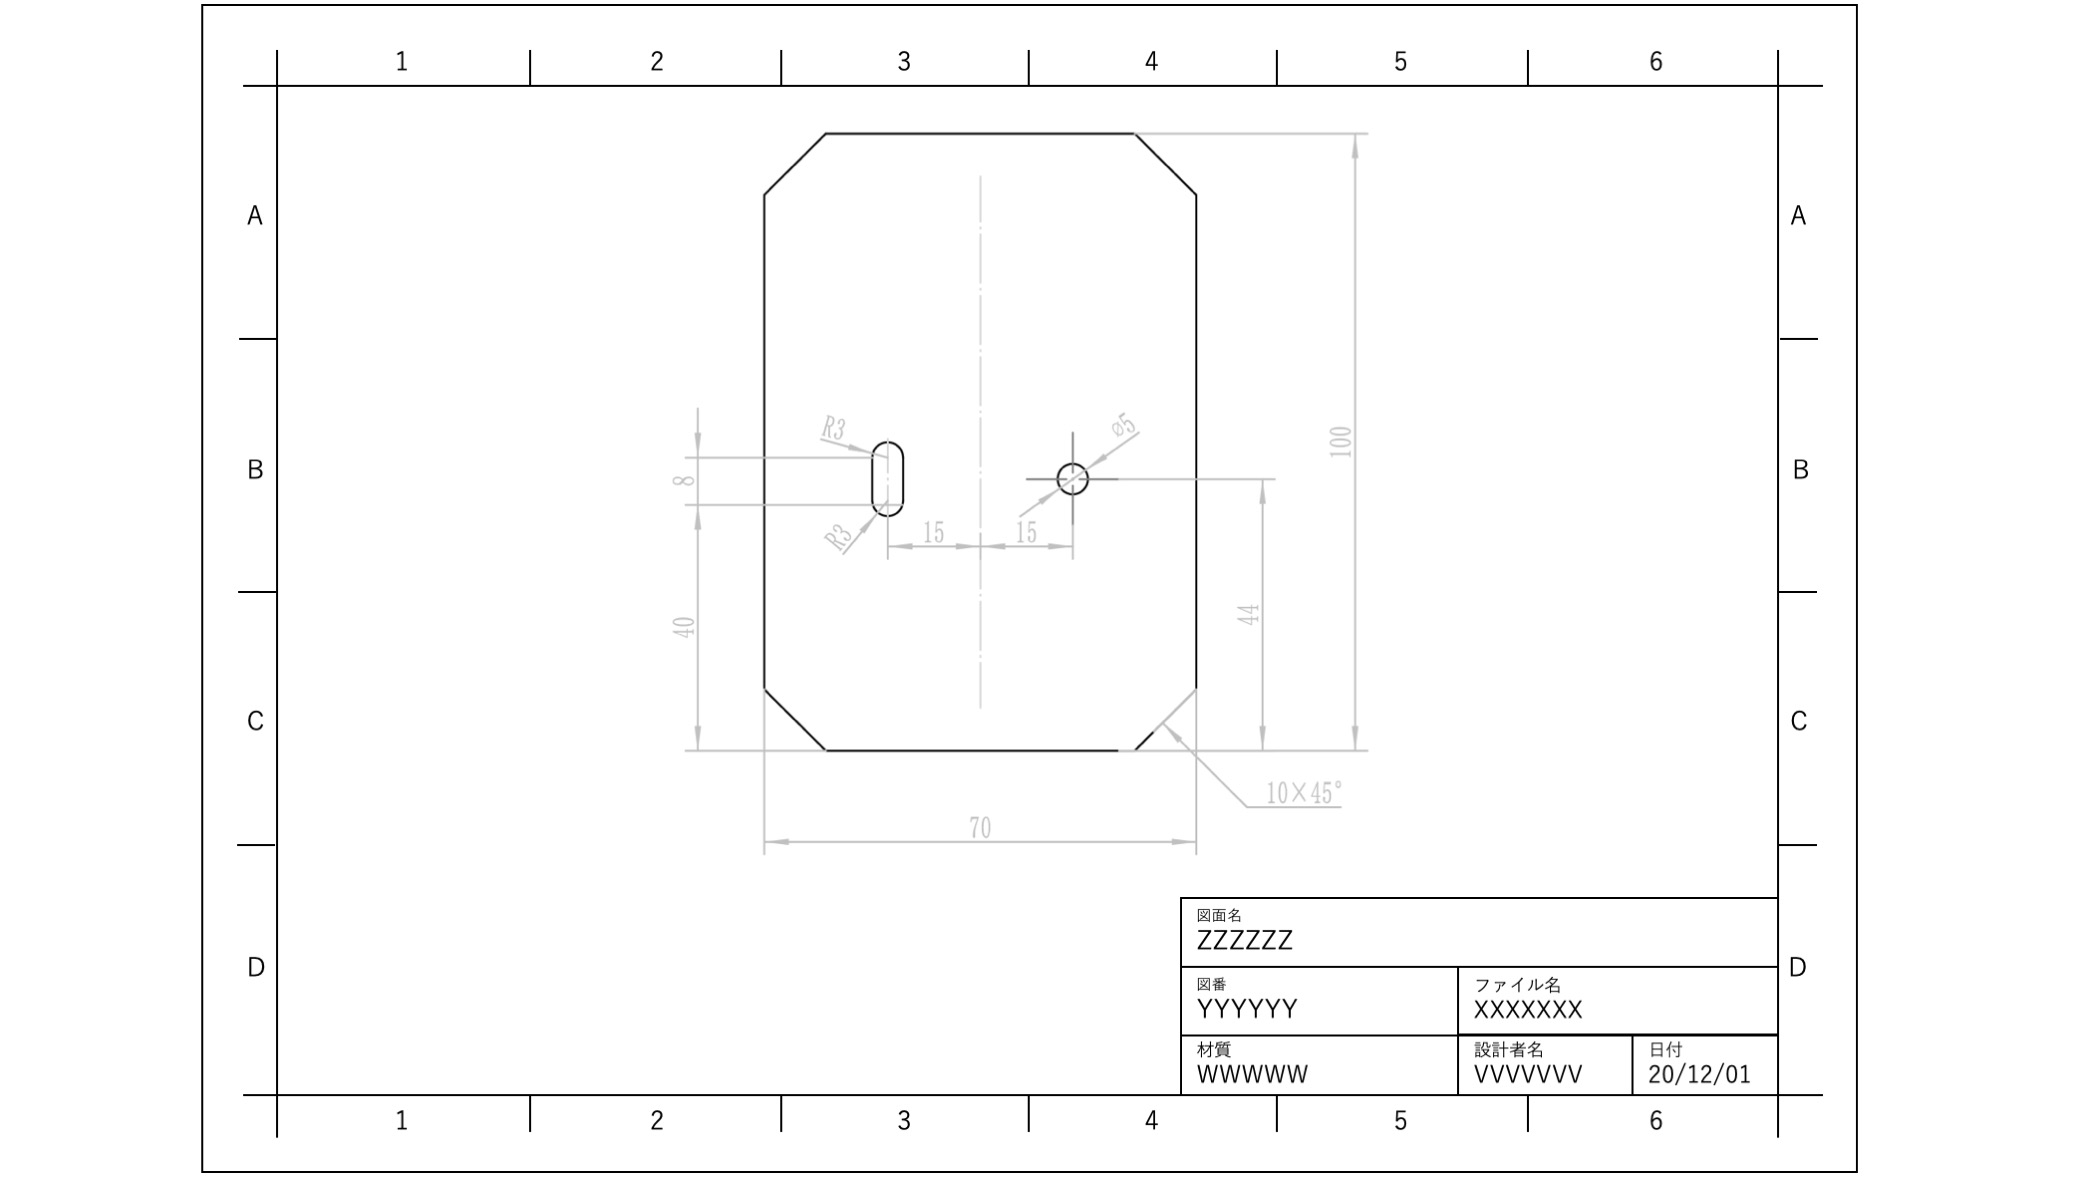circle: (1037, 447, 1098, 509)
round_rectangle: (854, 420, 926, 539)
